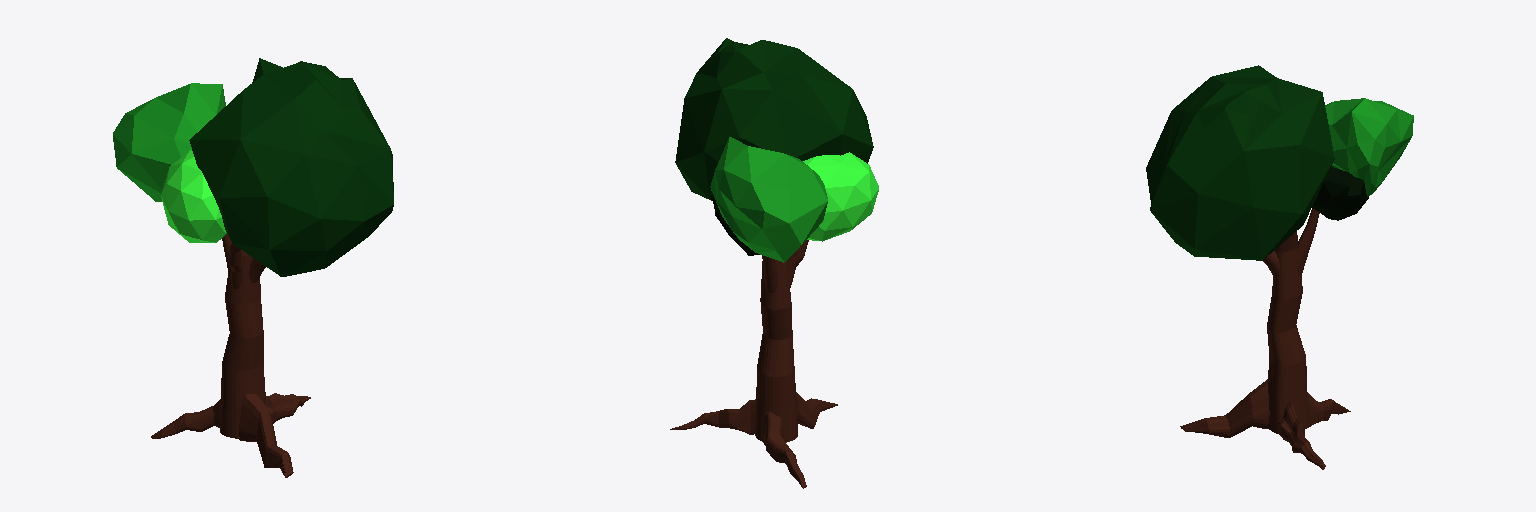
The model's file is boom1.obj.
3 views of the same model, side by side, from view 1: azimuth 30°, elevation 25°; view 2: azimuth 150°, elevation 25°; view 3: azimuth 270°, elevation 25° (orthographic).
Parts seen in each view (by area): view 1: normal_boom_storage.001_Icosphere.000; view 2: normal_boom_storage.001_Icosphere.000; view 3: normal_boom_storage.001_Icosphere.000.
Part boxes in pixels (left/top/right/bottom): normal_boom_storage.001_Icosphere.000: left=113, top=58, right=393, bottom=477; normal_boom_storage.001_Icosphere.000: left=670, top=38, right=878, bottom=488; normal_boom_storage.001_Icosphere.000: left=1146, top=65, right=1413, bottom=469.
Size of the model in its own units: 4.61 by 8.77 by 5.6.